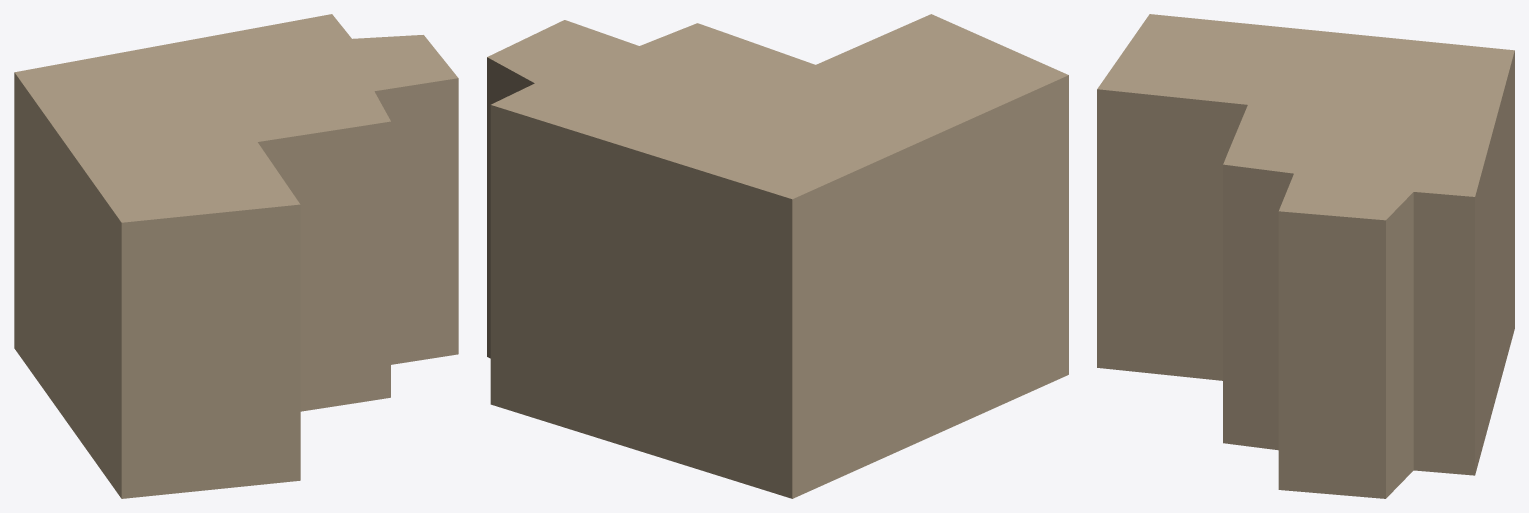
Rendered from bld_101572419.dae.
The picture shows the model from 3 angles, left to right: view 1: azimuth 30°, elevation 25°; view 2: azimuth 150°, elevation 25°; view 3: azimuth 270°, elevation 25°; orthographic projection. The views are drawn at different scales.
Visible parts, largest first — view 1: bld_101572419; view 2: bld_101572419; view 3: bld_101572419.
Boxes of the visible parts, <box> form: bld_101572419: <box>14,14,458,498</box>; bld_101572419: <box>487,14,1068,498</box>; bld_101572419: <box>1097,14,1514,498</box>.
Size of the model in its own units: 12.71 by 10.87 by 8.
